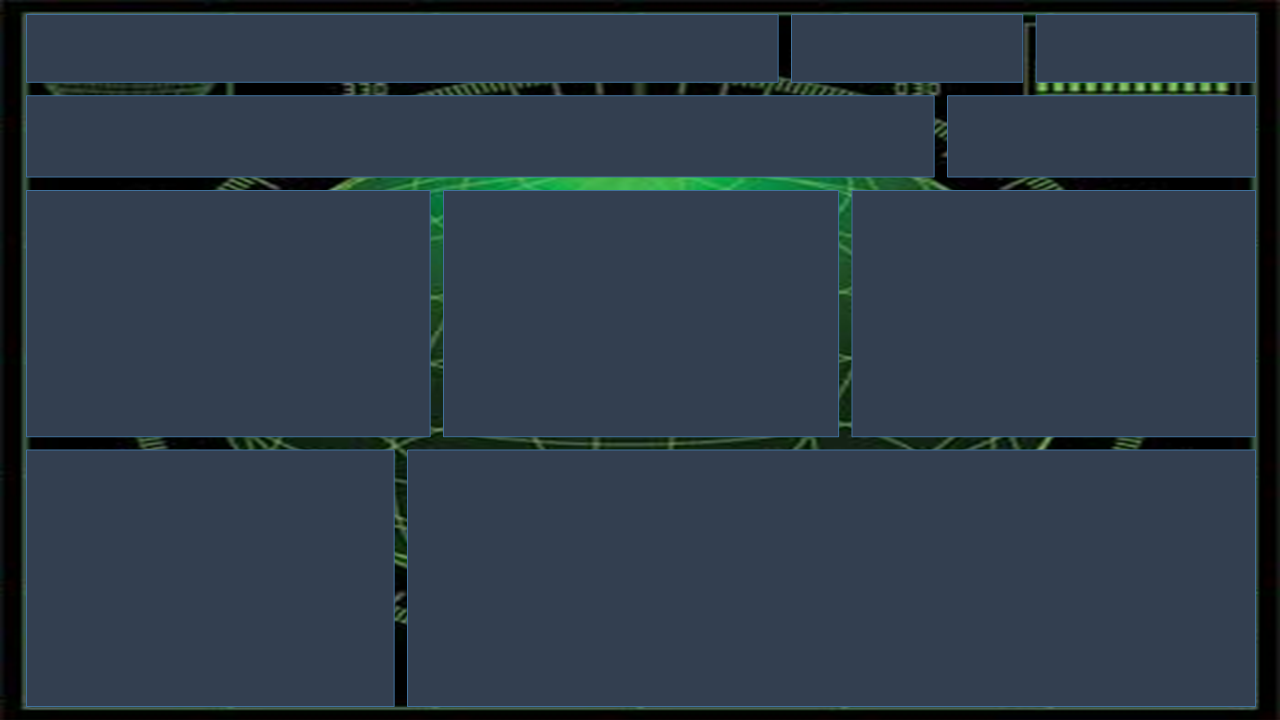

Layout of this report page (visuals, bound fields, positions):
{"tool":"tableau","page":{"name":"Health Dashboard","canvas":[1400,800],"ordinal":0},"visuals":[{"type":"image","param":"E:/dev2ML/Data Analysis/TABLEAU/Packaged Workbook/Health Analytics Dashboard/Hea","box":[8,8,1384,784]},{"type":"text","box":[42,30,805,66]},{"type":"worksheet","title":"Number Of Patients","mark":"Automatic","box":[864,31,247,68]},{"type":"text","box":[1128,36,230,61]},{"type":"worksheet","title":"Heart Failure by Gender","mark":"Bar","rows":["SEX"],"cols":["Calculation_754634438991491078"],"box":[1031,115,328,87]},{"type":"worksheet","title":"Average Statistics","mark":"Automatic","box":[43,118,970,78]},{"type":"worksheet","title":"Family History","mark":"Pie","box":[40,220,432,262]},{"type":"worksheet","title":"Patients By Exercise","mark":"Automatic","rows":["NUMBER OF PATIENTS"],"cols":["Exercise Min Per Week (bin)"],"box":[933,220,428,258]},{"type":"parameter","param":"[Parameters].[AGE Parameter 2]","box":[808,223,102,47]},{"type":"parameter","param":"[Parameters].[Exercise Min Per Week (bin) Parameter]","box":[1249,223,107,41]},{"type":"worksheet","title":"Patients By Age group","mark":"Automatic","rows":["NUMBER OF PATIENTS"],"cols":["AGE (bin)"],"box":[488,228,420,250]},{"type":"parameter","param":"[Parameters].[Cholesterol Parameter]","box":[300,498,133,39]},{"type":"worksheet","title":"Heart failure rate for different age groups by gender","mark":"Pie","rows":["Calculation_754634439487954956","Calculation_754634439487954956"],"cols":["AGE BAND"],"box":[459,499,904,269]},{"type":"worksheet","title":"Cholesterol","mark":"Bar","rows":["NUMBER OF PATIENTS"],"cols":["Cholesterol (bin)"],"box":[41,500,392,269]}]}

Visuals, with their boxes in screenshot pixels (x1, y1, x2, y2), scaled from the page's 1400x800 canvas onto the 1280x720 screenshot:
image: [7, 7, 1273, 713]
text: [38, 27, 774, 86]
"Number Of Patients" worksheet: [790, 28, 1016, 89]
text: [1031, 32, 1242, 87]
"Heart Failure by Gender" worksheet (Bar marks): [943, 104, 1243, 182]
"Average Statistics" worksheet: [39, 106, 926, 176]
"Family History" worksheet (Pie marks): [37, 198, 432, 434]
"Patients By Exercise" worksheet: [853, 198, 1244, 430]
parameter: [739, 201, 832, 243]
parameter: [1142, 201, 1240, 238]
"Patients By Age group" worksheet: [446, 205, 830, 430]
parameter: [274, 448, 396, 483]
"Heart failure rate for different age groups by gender" worksheet (Pie marks): [420, 449, 1246, 691]
"Cholesterol" worksheet (Bar marks): [37, 450, 396, 692]
